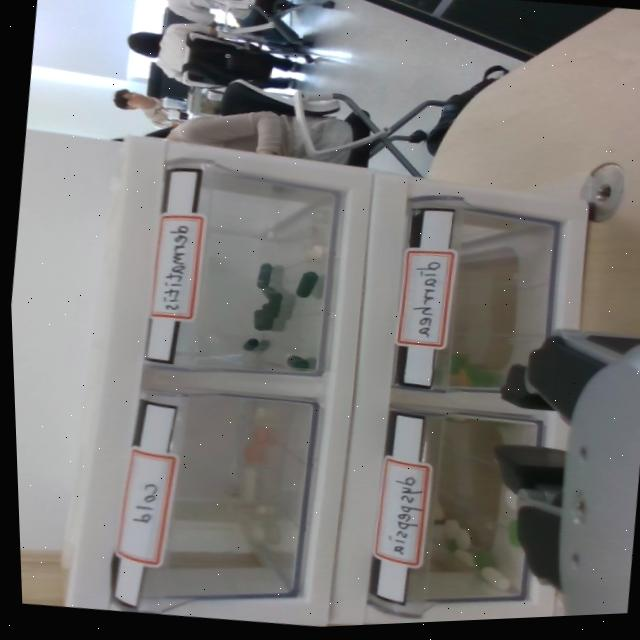text: (157, 221, 197, 317), (381, 471, 424, 560), (406, 254, 447, 340), (126, 474, 164, 530)
